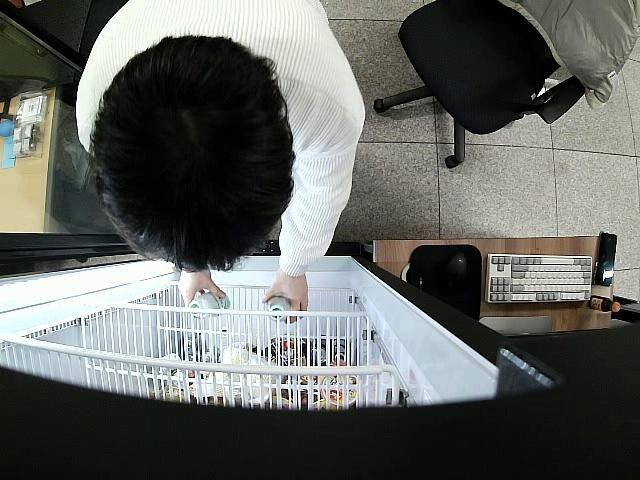18_trevi: (190, 290, 232, 320), (265, 294, 299, 320)
